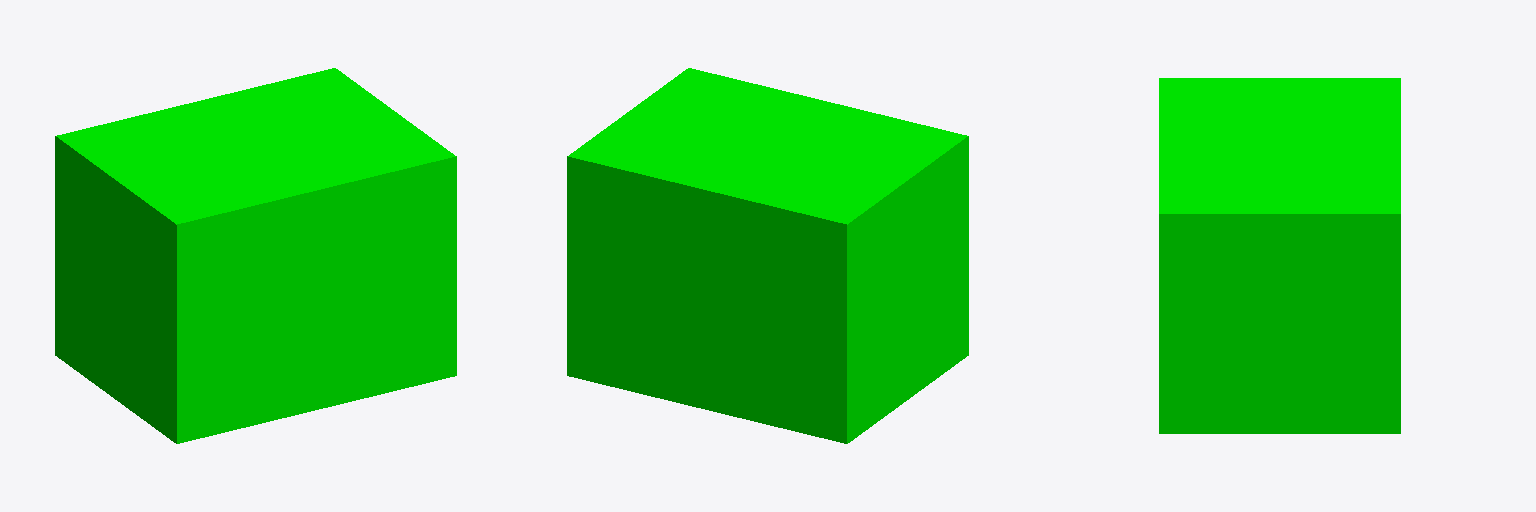
Rendered from SafeZone_Model.obj.
The picture shows the model from 3 angles: view 1: azimuth 30°, elevation 25°; view 2: azimuth 150°, elevation 25°; view 3: azimuth 270°, elevation 25°; orthographic projection.
Size of the model in its own units: 1600 by 1200 by 1200.